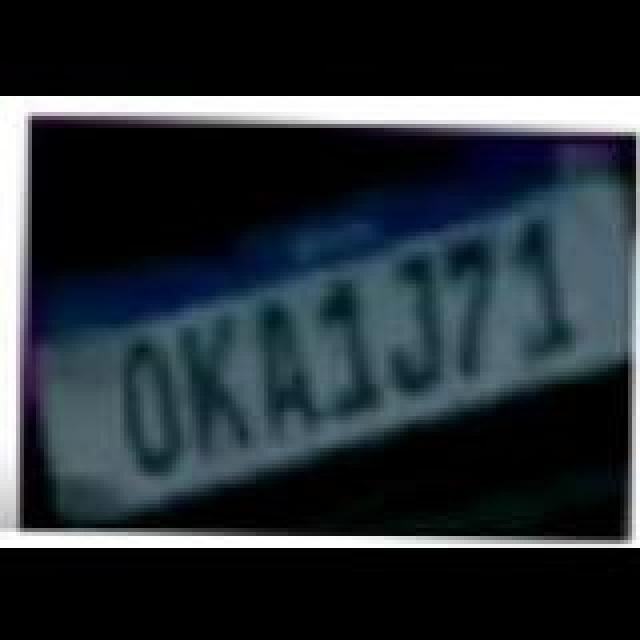1: (306, 272, 390, 416), (506, 216, 582, 360)
7: (436, 232, 516, 376)
A: (246, 294, 330, 434)
J: (372, 250, 452, 398)
K: (172, 306, 268, 454)
O: (110, 332, 194, 476)
